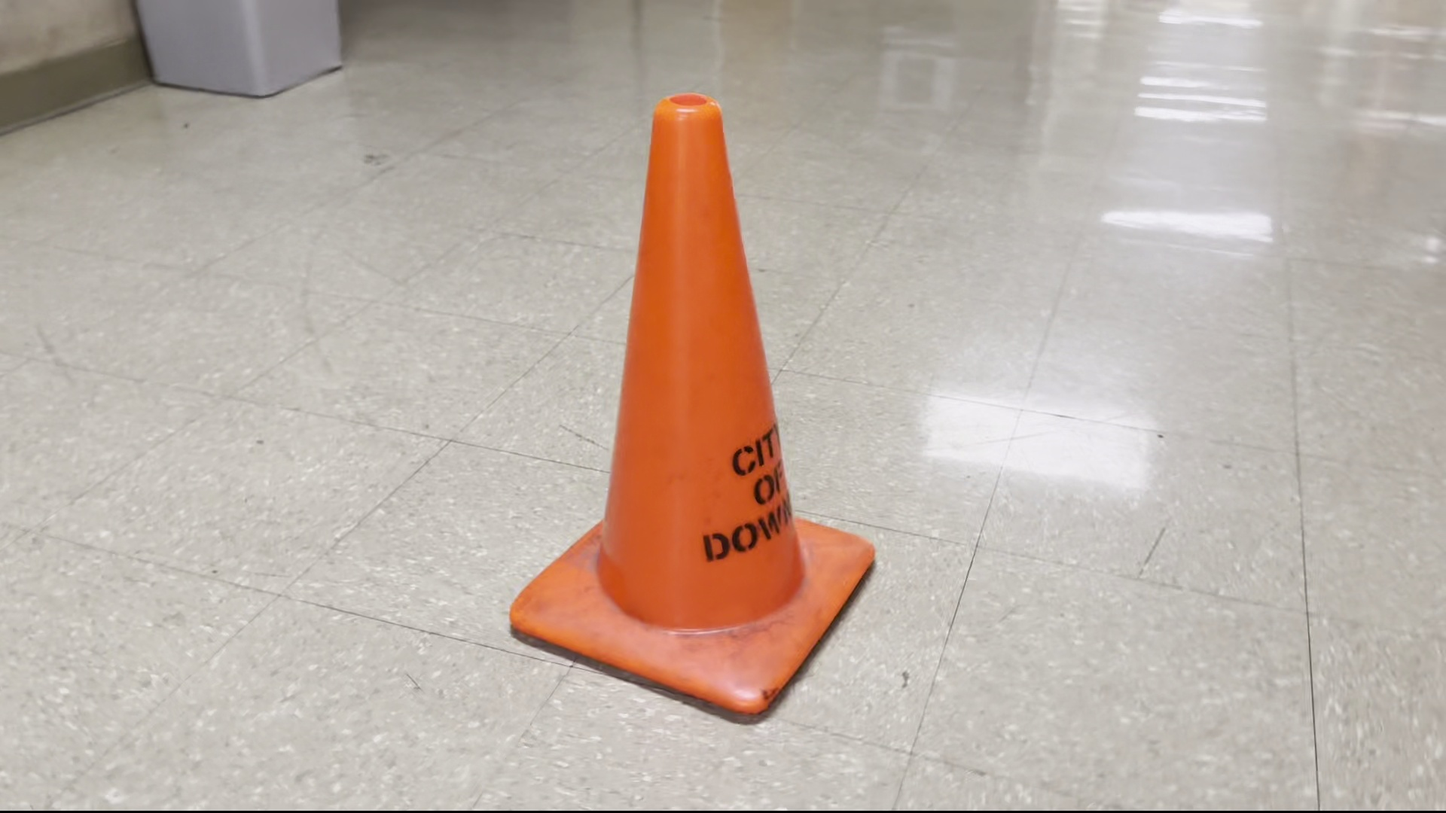traffic_cone: (508, 91, 876, 718)
